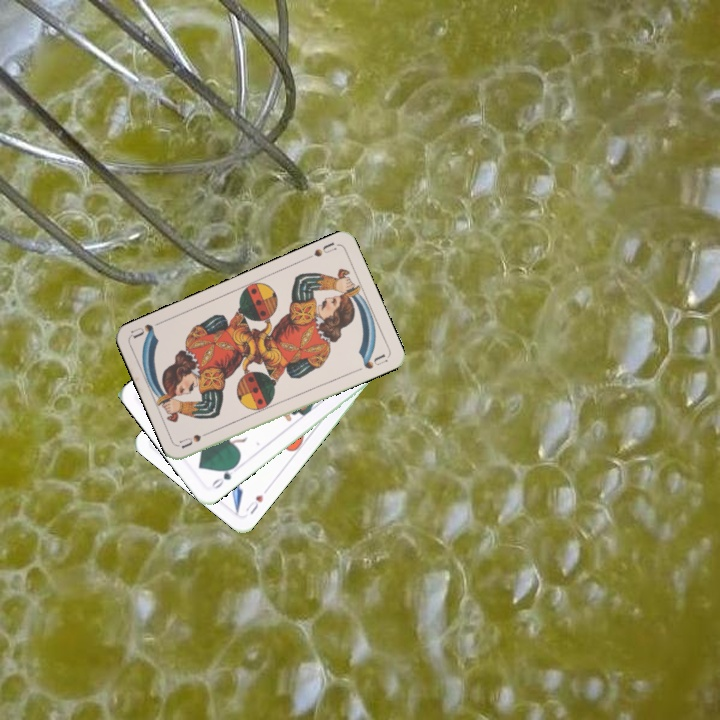GO: (208, 460, 240, 492)
HU: (241, 484, 271, 517)
SU: (176, 426, 216, 451), (310, 238, 339, 259)
